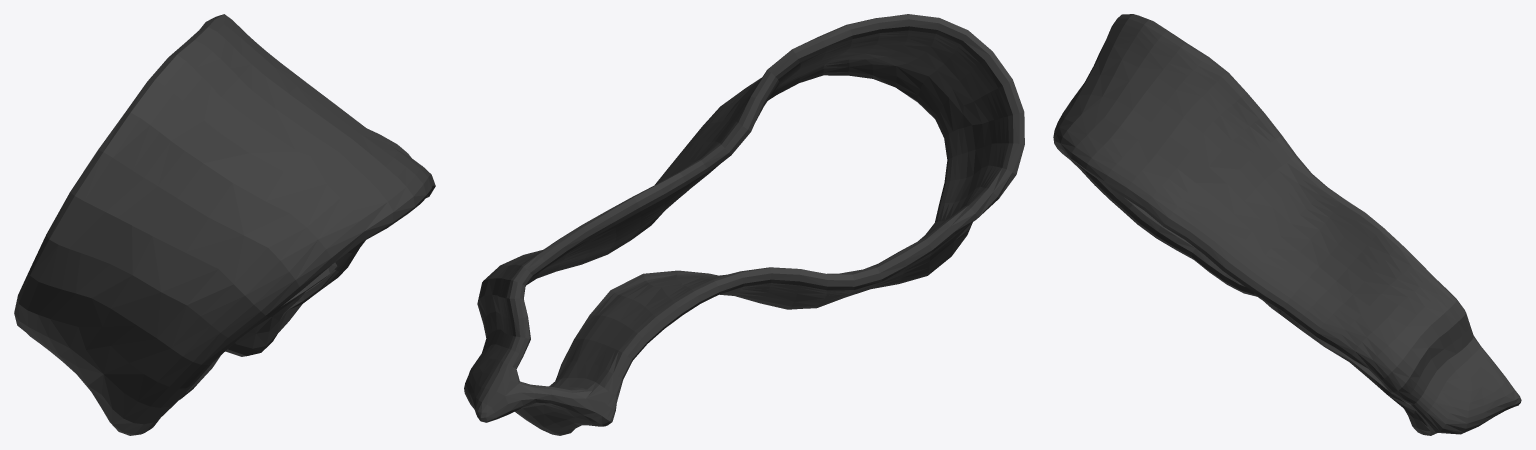
File: Foramen_stylomastoid_L.glb
3 renders of one model, left to right at view 1: azimuth 30°, elevation 25°; view 2: azimuth 150°, elevation 25°; view 3: azimuth 270°, elevation 25°, orthographic. The views are drawn at different scales.
Parts seen in each view (by area): view 1: Foramen_stylomastoid_L; view 2: Foramen_stylomastoid_L; view 3: Foramen_stylomastoid_L.
Part boxes in pixels (box(x1,y1,x2,y2)): Foramen_stylomastoid_L: box(14, 14, 435, 435); Foramen_stylomastoid_L: box(464, 14, 1024, 435); Foramen_stylomastoid_L: box(1053, 14, 1521, 435).
Size of the model in its own units: 0.8498 by 0.7266 by 0.9487.
1 material, 1 textured.
